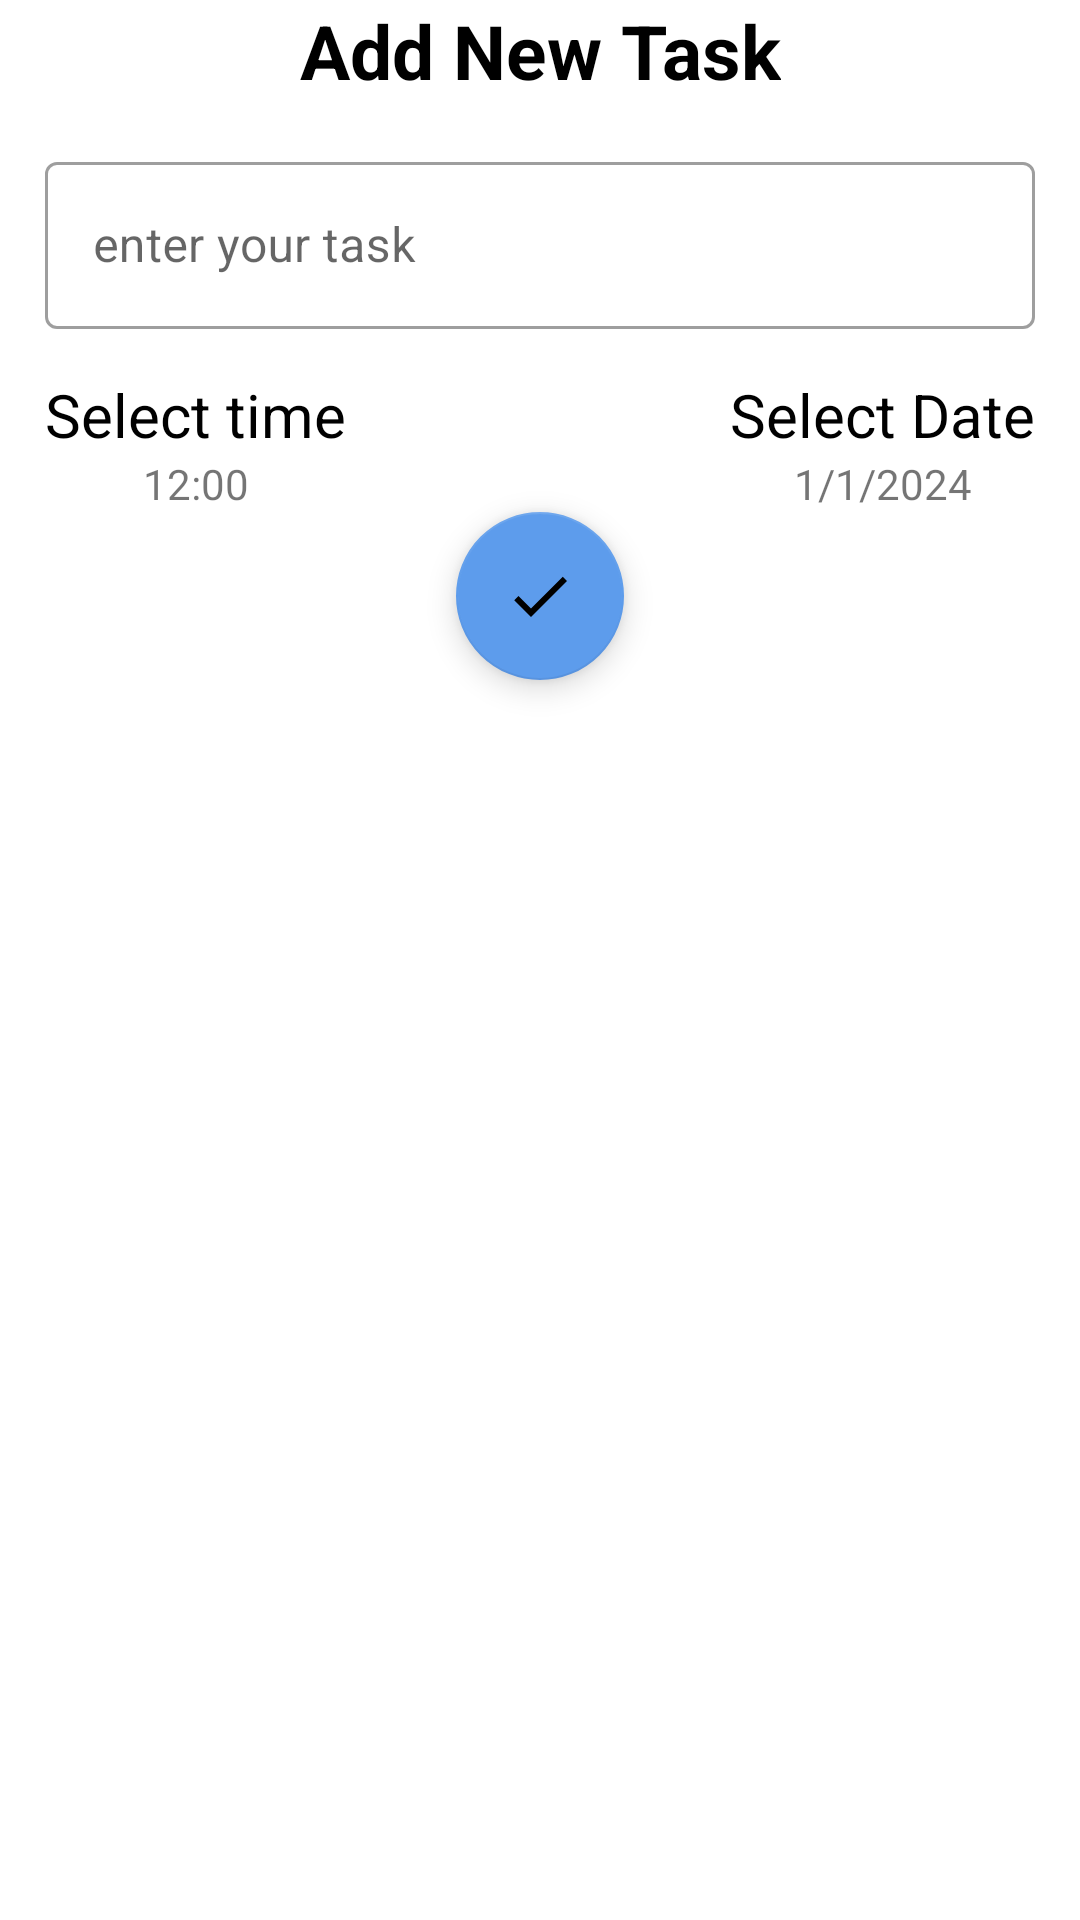

Icon bounding boxes for this 1080px x 1920px phone screenshot, format (x1, y1, x2, y2):
check: (456, 512, 624, 680)
